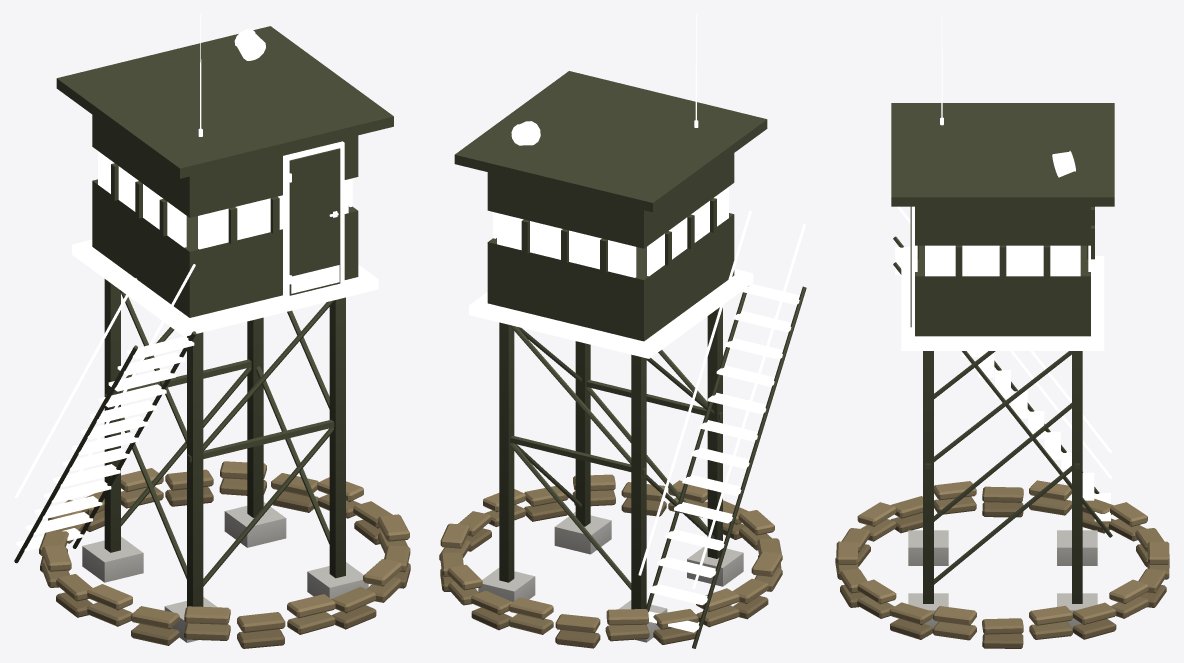
File: guard_tower_steel.glb
3 renders of one model, left to right at view 1: azimuth 30°, elevation 25°; view 2: azimuth 150°, elevation 25°; view 3: azimuth 270°, elevation 25°, orthographic. The views are drawn at different scales.
Visible parts, largest first — view 1: guard_tower_steel_LOD0; view 2: guard_tower_steel_LOD0; view 3: guard_tower_steel_LOD0.
Part boxes in pixels (x1=…): guard_tower_steel_LOD0: x1=14, y1=14, x2=410, y2=648; guard_tower_steel_LOD0: x1=439, y1=14, x2=806, y2=648; guard_tower_steel_LOD0: x1=835, y1=14, x2=1169, y2=648.
Size of what is drawn, in the model's own units: 4.95 by 8.95 by 4.94.
